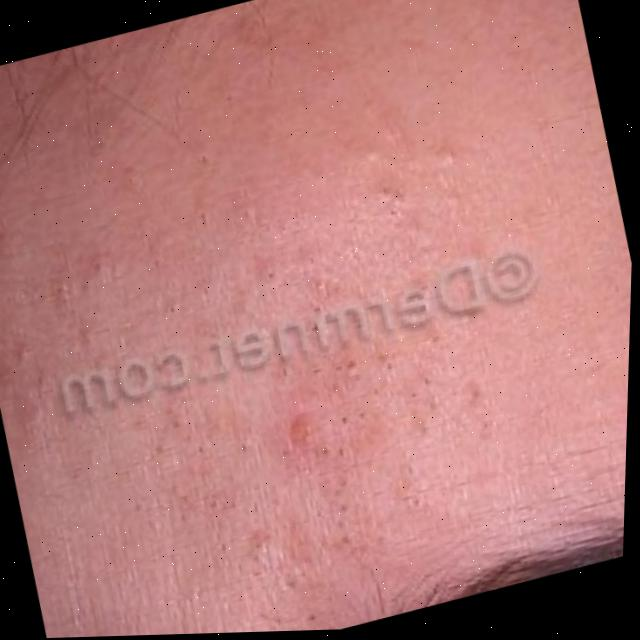Acne: (146, 302, 455, 618)
